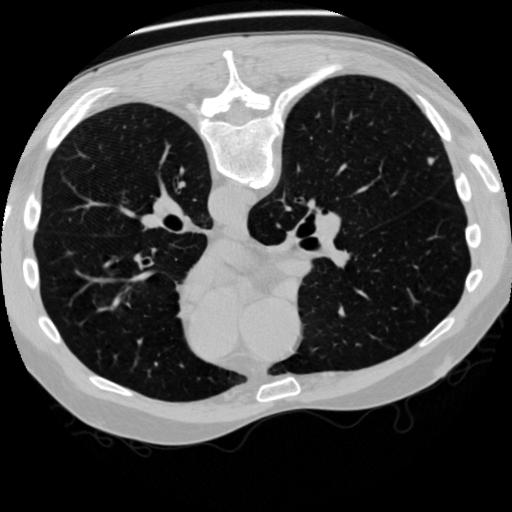nodule: (425, 155, 439, 169)
